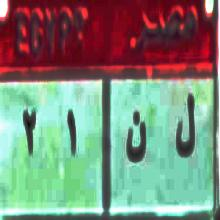1: (66, 104, 78, 165)
2: (22, 107, 39, 168)
laam: (174, 89, 196, 165)
noon: (125, 106, 148, 171)
